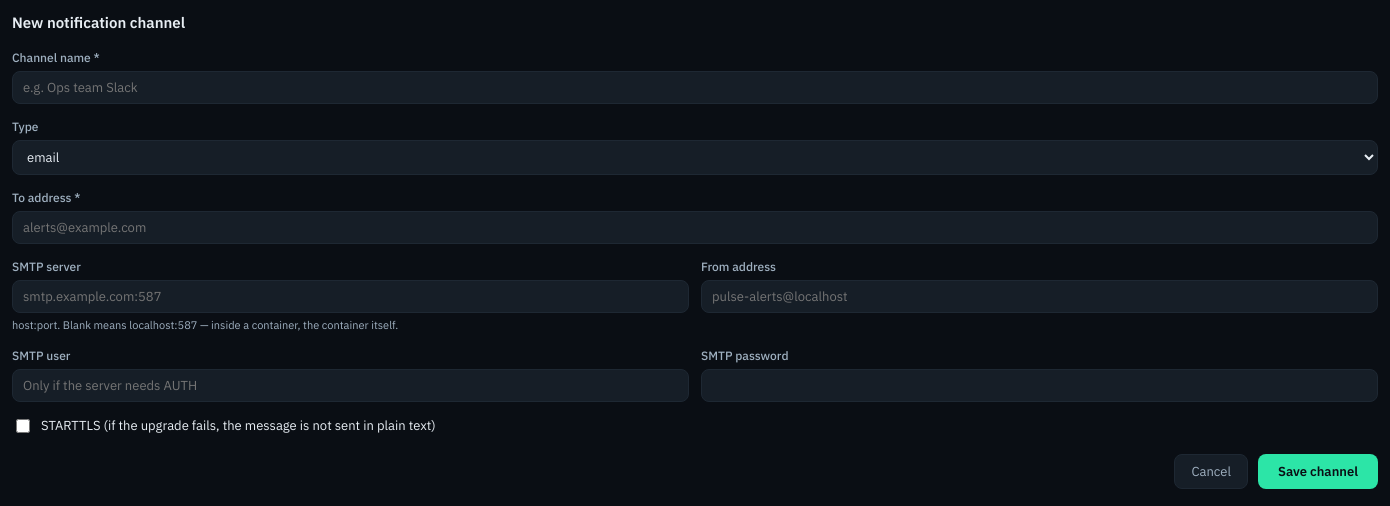
Test: AlertChannelForm › (f) type switch — pagerduty shows its routing key and severity, no env-var claim
Select "pagerduty" in the dropdown: (695, 157) [12,140,1378,174]
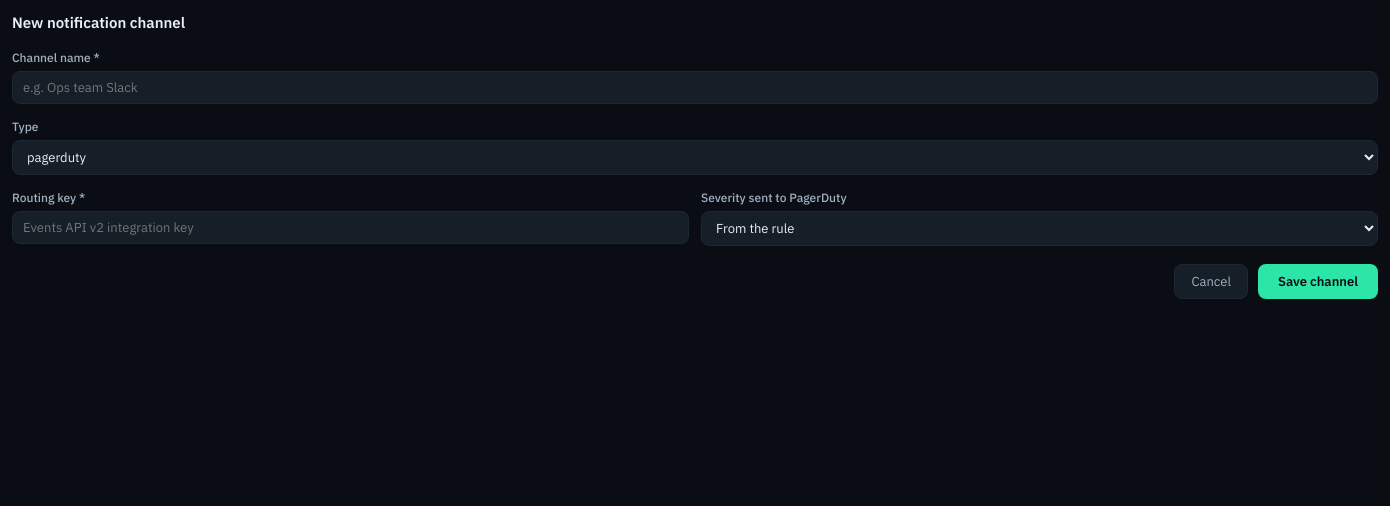
Now the password field labelled "Routing key *" is shown, box [12,210,689,244]
Now the dropdown labelled "Severity sent to PagerDuty" is shown, box [701,210,1378,246]
